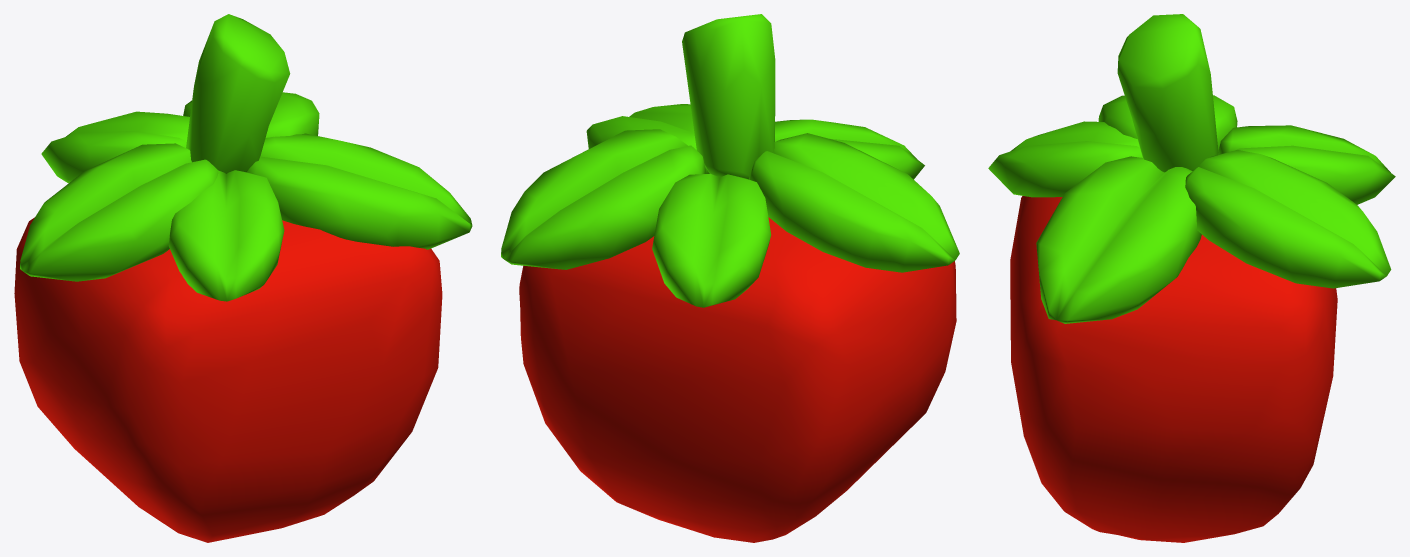
File: Erdbeere.fbx
3 renders of one model, left to right at view 1: azimuth 30°, elevation 25°; view 2: azimuth 150°, elevation 25°; view 3: azimuth 270°, elevation 25°, orthographic.
Visible parts, largest first — view 1: Cube; view 2: Cube; view 3: Cube.
Boxes of the visible parts, bbox=[...] form: Cube: bbox=[14, 14, 472, 542]; Cube: bbox=[501, 14, 959, 542]; Cube: bbox=[988, 14, 1395, 542].
Bounding box in the file's own units: 95.06 × 113 × 82.63.
